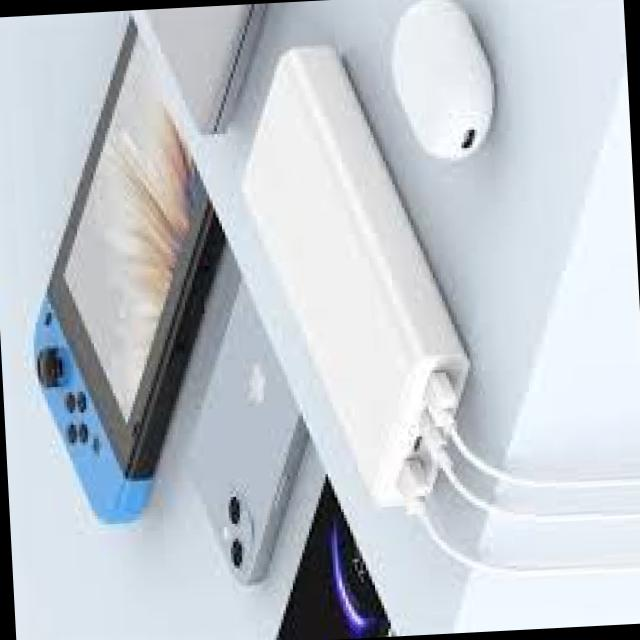portable-charger: (232, 32, 486, 510)
